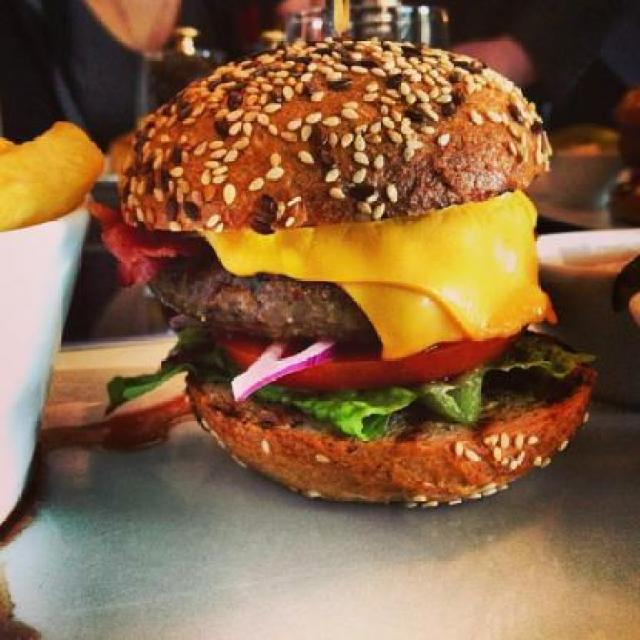Hamburger: (90, 38, 599, 508)
